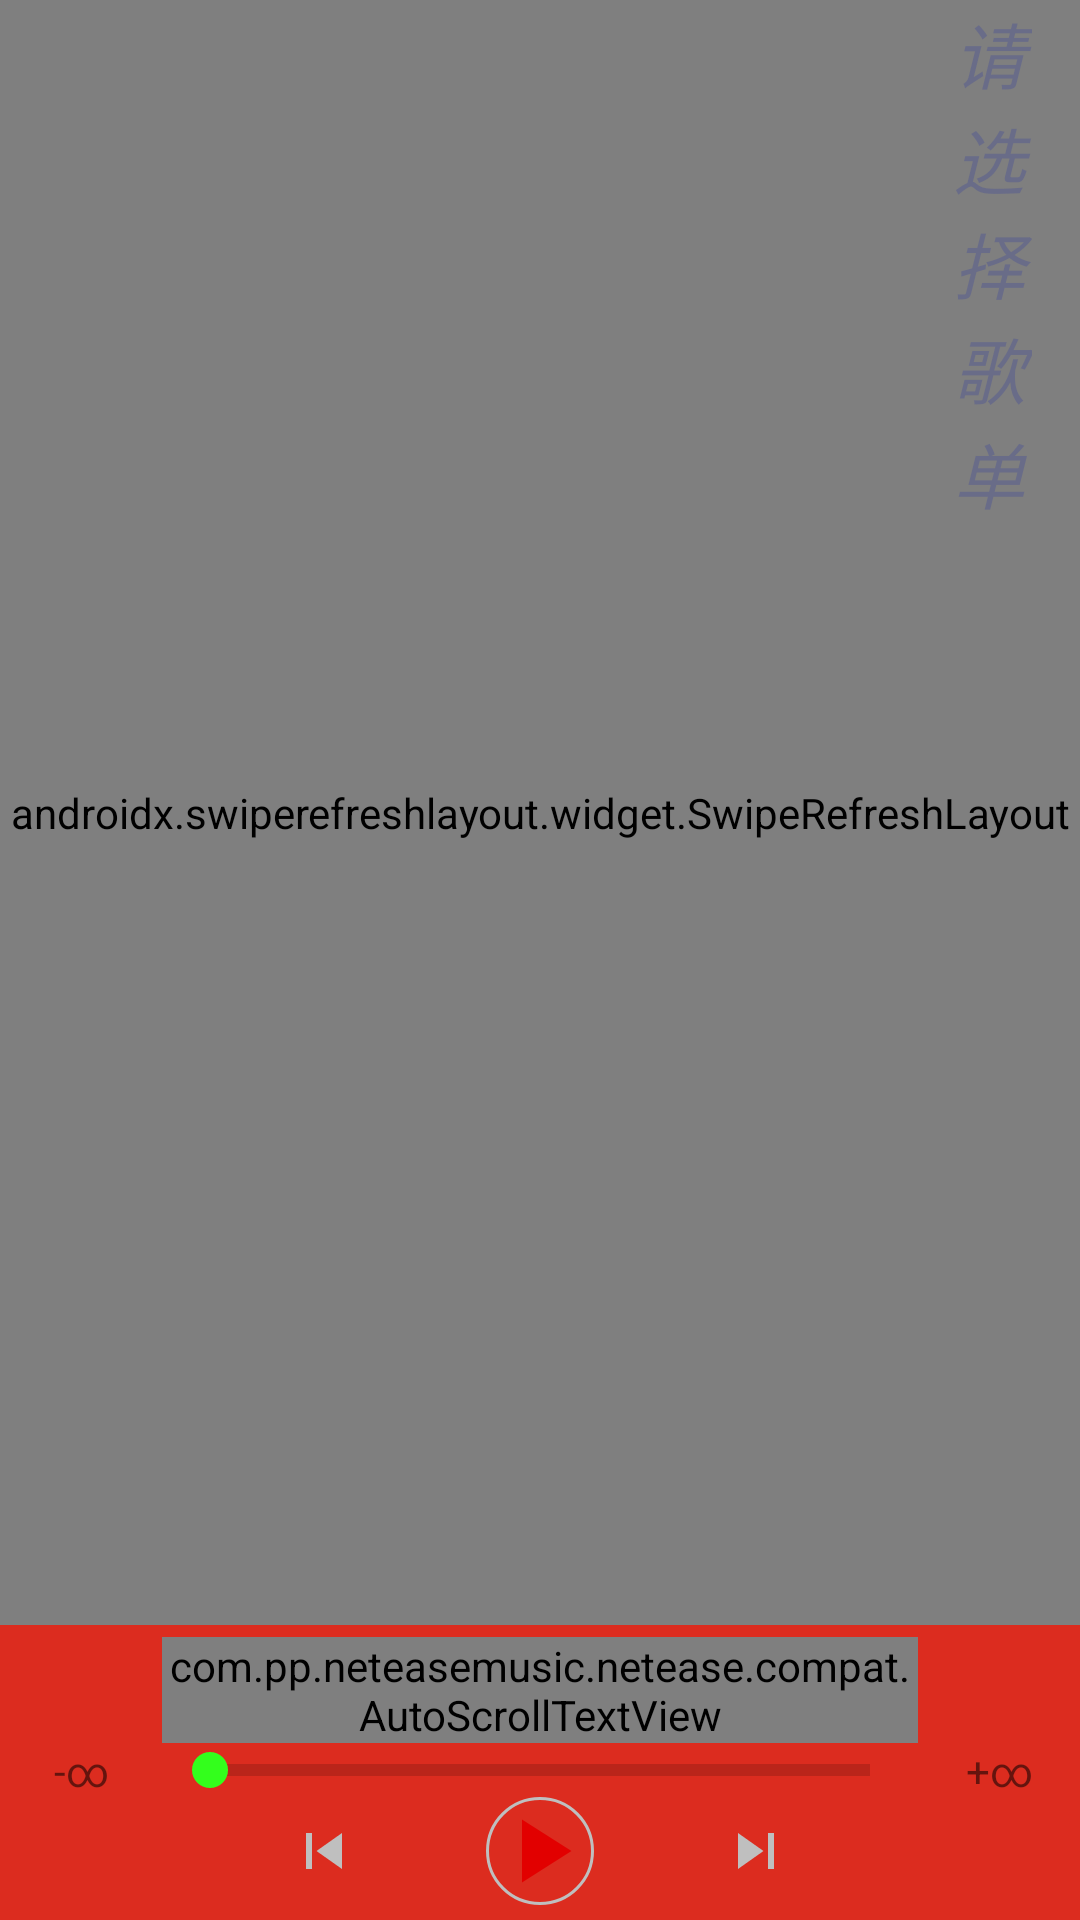

Screen size 1080*1920. Icon name, then its center in pixels as point (x, y):
上一曲: point (324, 1851)
下一曲: point (756, 1851)
播放: point (540, 1851)
